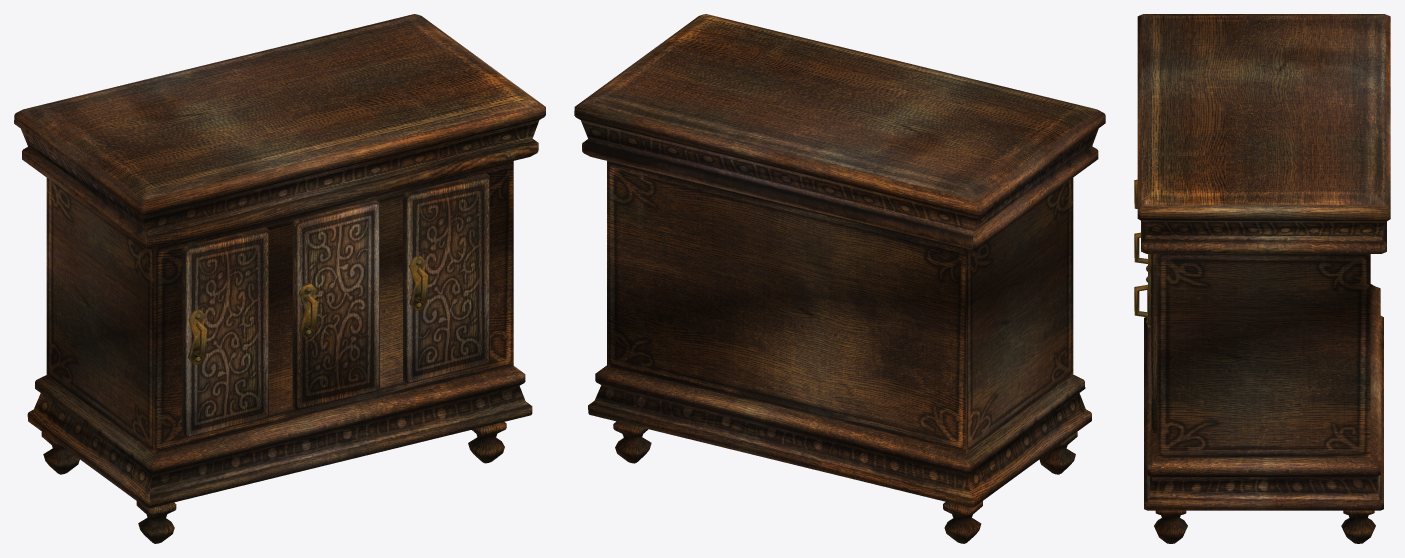
The model's file is Cabinet_A.obj.
The picture shows the model from 3 angles, left to right: view 1: azimuth 30°, elevation 25°; view 2: azimuth 150°, elevation 25°; view 3: azimuth 270°, elevation 25°; orthographic projection.
Visible parts, largest first — view 1: Cabinet_A; view 2: Cabinet_A; view 3: Cabinet_A.
Part boxes in pixels (x1=…): Cabinet_A: x1=14, y1=14, x2=545, y2=543; Cabinet_A: x1=574, y1=14, x2=1105, y2=543; Cabinet_A: x1=1134, y1=14, x2=1390, y2=543.
Size of the model in its own units: 134 by 114 by 73.49.
